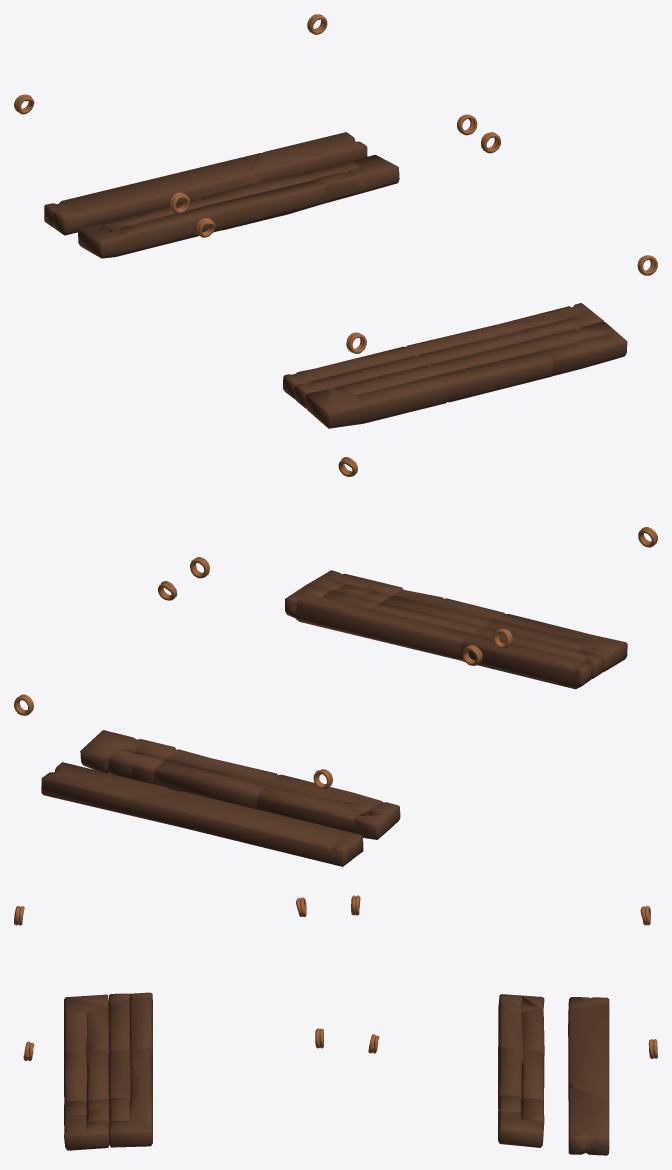
The model's file is SM_bob_map_wooden_bridge.fbx.
The picture shows the model from 3 angles, top to bottom: view 1: azimuth 30°, elevation 25°; view 2: azimuth 150°, elevation 25°; view 3: azimuth 270°, elevation 25°; orthographic projection. The views are drawn at different scales.
Parts seen in each view (by area): view 1: SM_bob_map_wooden_bridge; view 2: SM_bob_map_wooden_bridge; view 3: SM_bob_map_wooden_bridge.
Part boxes in pixels (x1=…): SM_bob_map_wooden_bridge: x1=14, y1=14, x2=657, y2=428; SM_bob_map_wooden_bridge: x1=14, y1=457, x2=657, y2=866; SM_bob_map_wooden_bridge: x1=14, y1=895, x2=657, y2=1155.
Bounding box in the file's own units: 305 × 120 × 563.
Materials: 1 (1 with a texture image).
